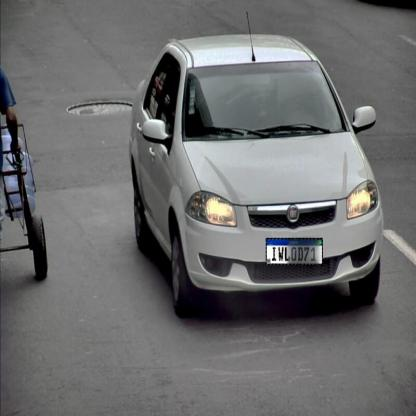PlacaM: (266, 238, 323, 265)
